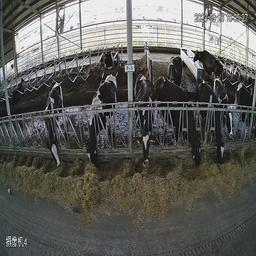cow: (155, 75, 202, 171), (81, 73, 118, 170), (195, 78, 225, 166), (134, 74, 154, 166), (45, 82, 64, 169), (193, 49, 223, 91), (213, 78, 231, 148), (167, 55, 184, 92), (100, 52, 119, 68)
